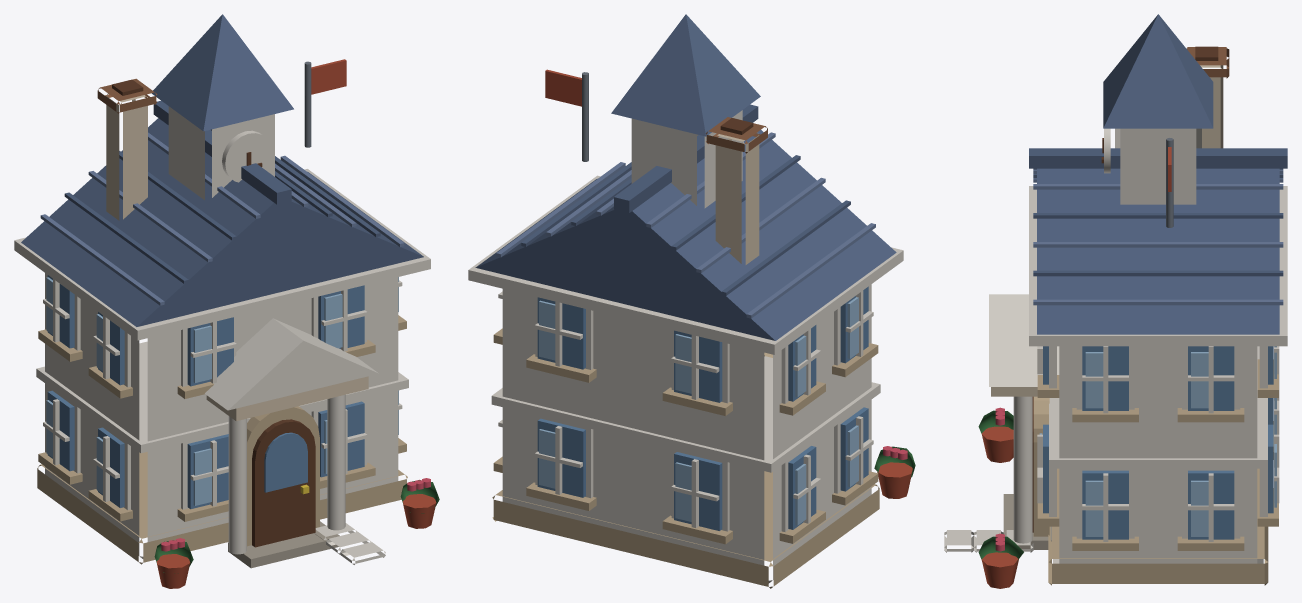
The model's file is townhall.glb.
The picture shows the model from 3 angles, left to right: view 1: azimuth 30°, elevation 25°; view 2: azimuth 150°, elevation 25°; view 3: azimuth 270°, elevation 25°; orthographic projection. The views are drawn at different scales.
Visible parts, largest first — view 1: townhall; view 2: townhall; view 3: townhall.
Part boxes in pixels (left/top/right/bottom): townhall: left=14, top=14, right=439, bottom=588; townhall: left=468, top=14, right=915, bottom=588; townhall: left=944, top=14, right=1287, bottom=588.
Bounding box in the file's own units: 0.86 × 1.37 × 0.8322.
